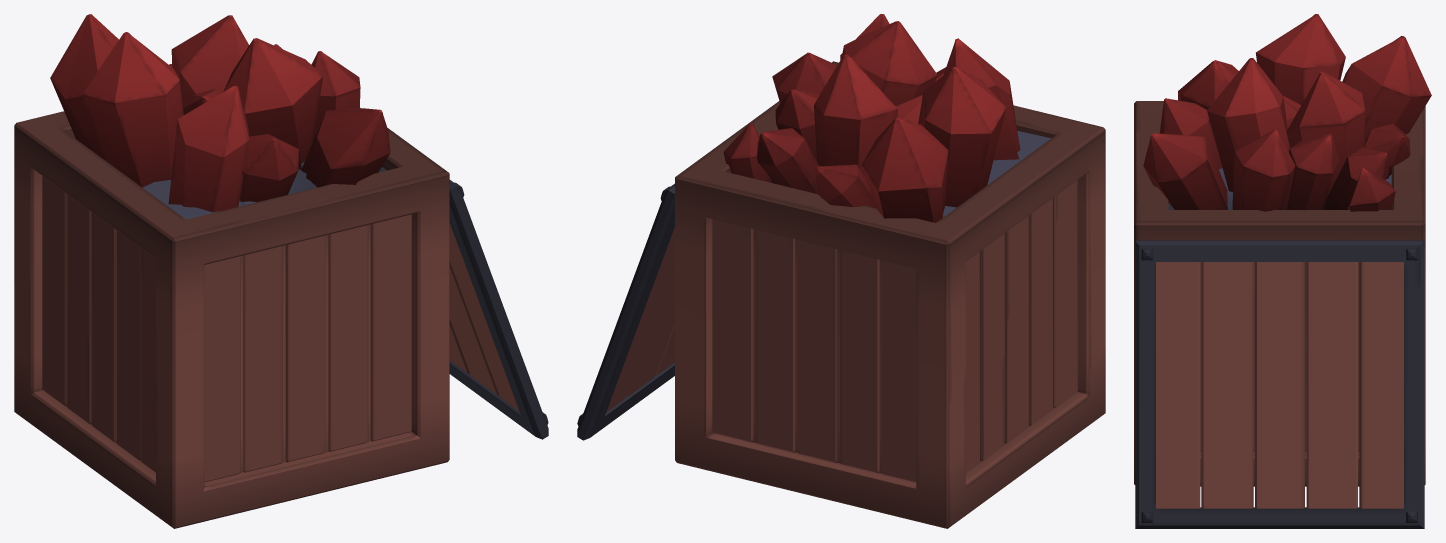
Rendered from CaixaCristais.fbx.
3 renders of one model, left to right at view 1: azimuth 30°, elevation 25°; view 2: azimuth 150°, elevation 25°; view 3: azimuth 270°, elevation 25°, orthographic. The views are drawn at different scales.
Parts seen in each view (by area): view 1: Caixa com cristais; view 2: Caixa com cristais; view 3: Caixa com cristais.
Part boxes in pixels (<box>): Caixa com cristais: <box>14,14,548,528</box>; Caixa com cristais: <box>577,14,1105,528</box>; Caixa com cristais: <box>1134,14,1431,528</box>.
Bounding box in the file's own units: 92.53 × 95.59 × 68.99.
